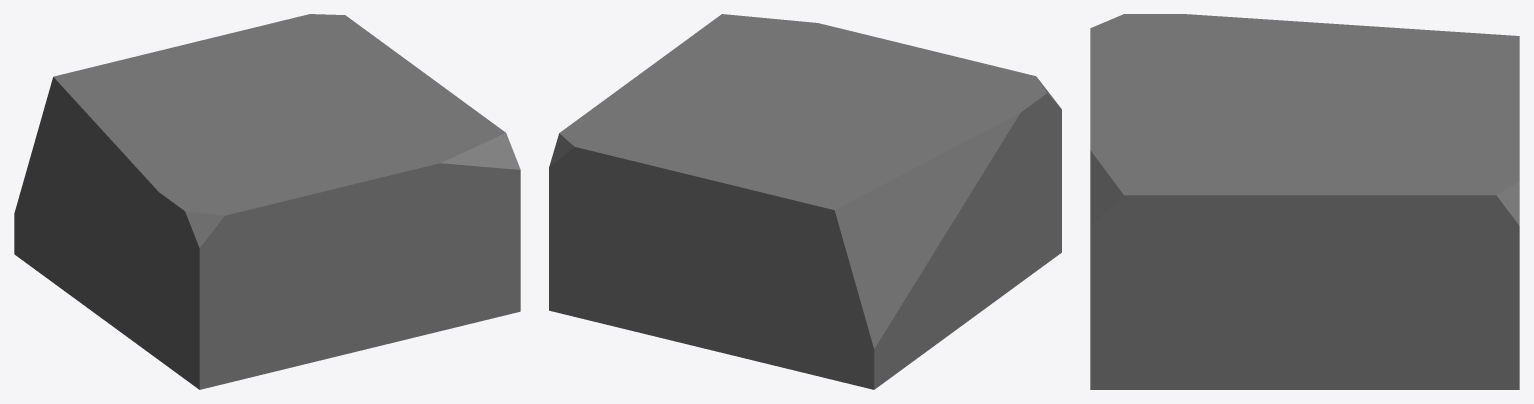
The model's file is Tile_02.fbx.
The picture shows the model from 3 angles, left to right: view 1: azimuth 30°, elevation 25°; view 2: azimuth 150°, elevation 25°; view 3: azimuth 270°, elevation 25°; orthographic projection. The views are drawn at different scales.
Parts seen in each view (by area): view 1: Tile_02_LOD0; view 2: Tile_02_LOD0; view 3: Tile_02_LOD0.
Part boxes in pixels (bbox=[...]): Tile_02_LOD0: bbox=[14, 14, 520, 389]; Tile_02_LOD0: bbox=[549, 14, 1061, 389]; Tile_02_LOD0: bbox=[1090, 14, 1519, 389].
Size of what is drawn, in the model's own units: 0.3072 by 0.1536 by 0.3072.
